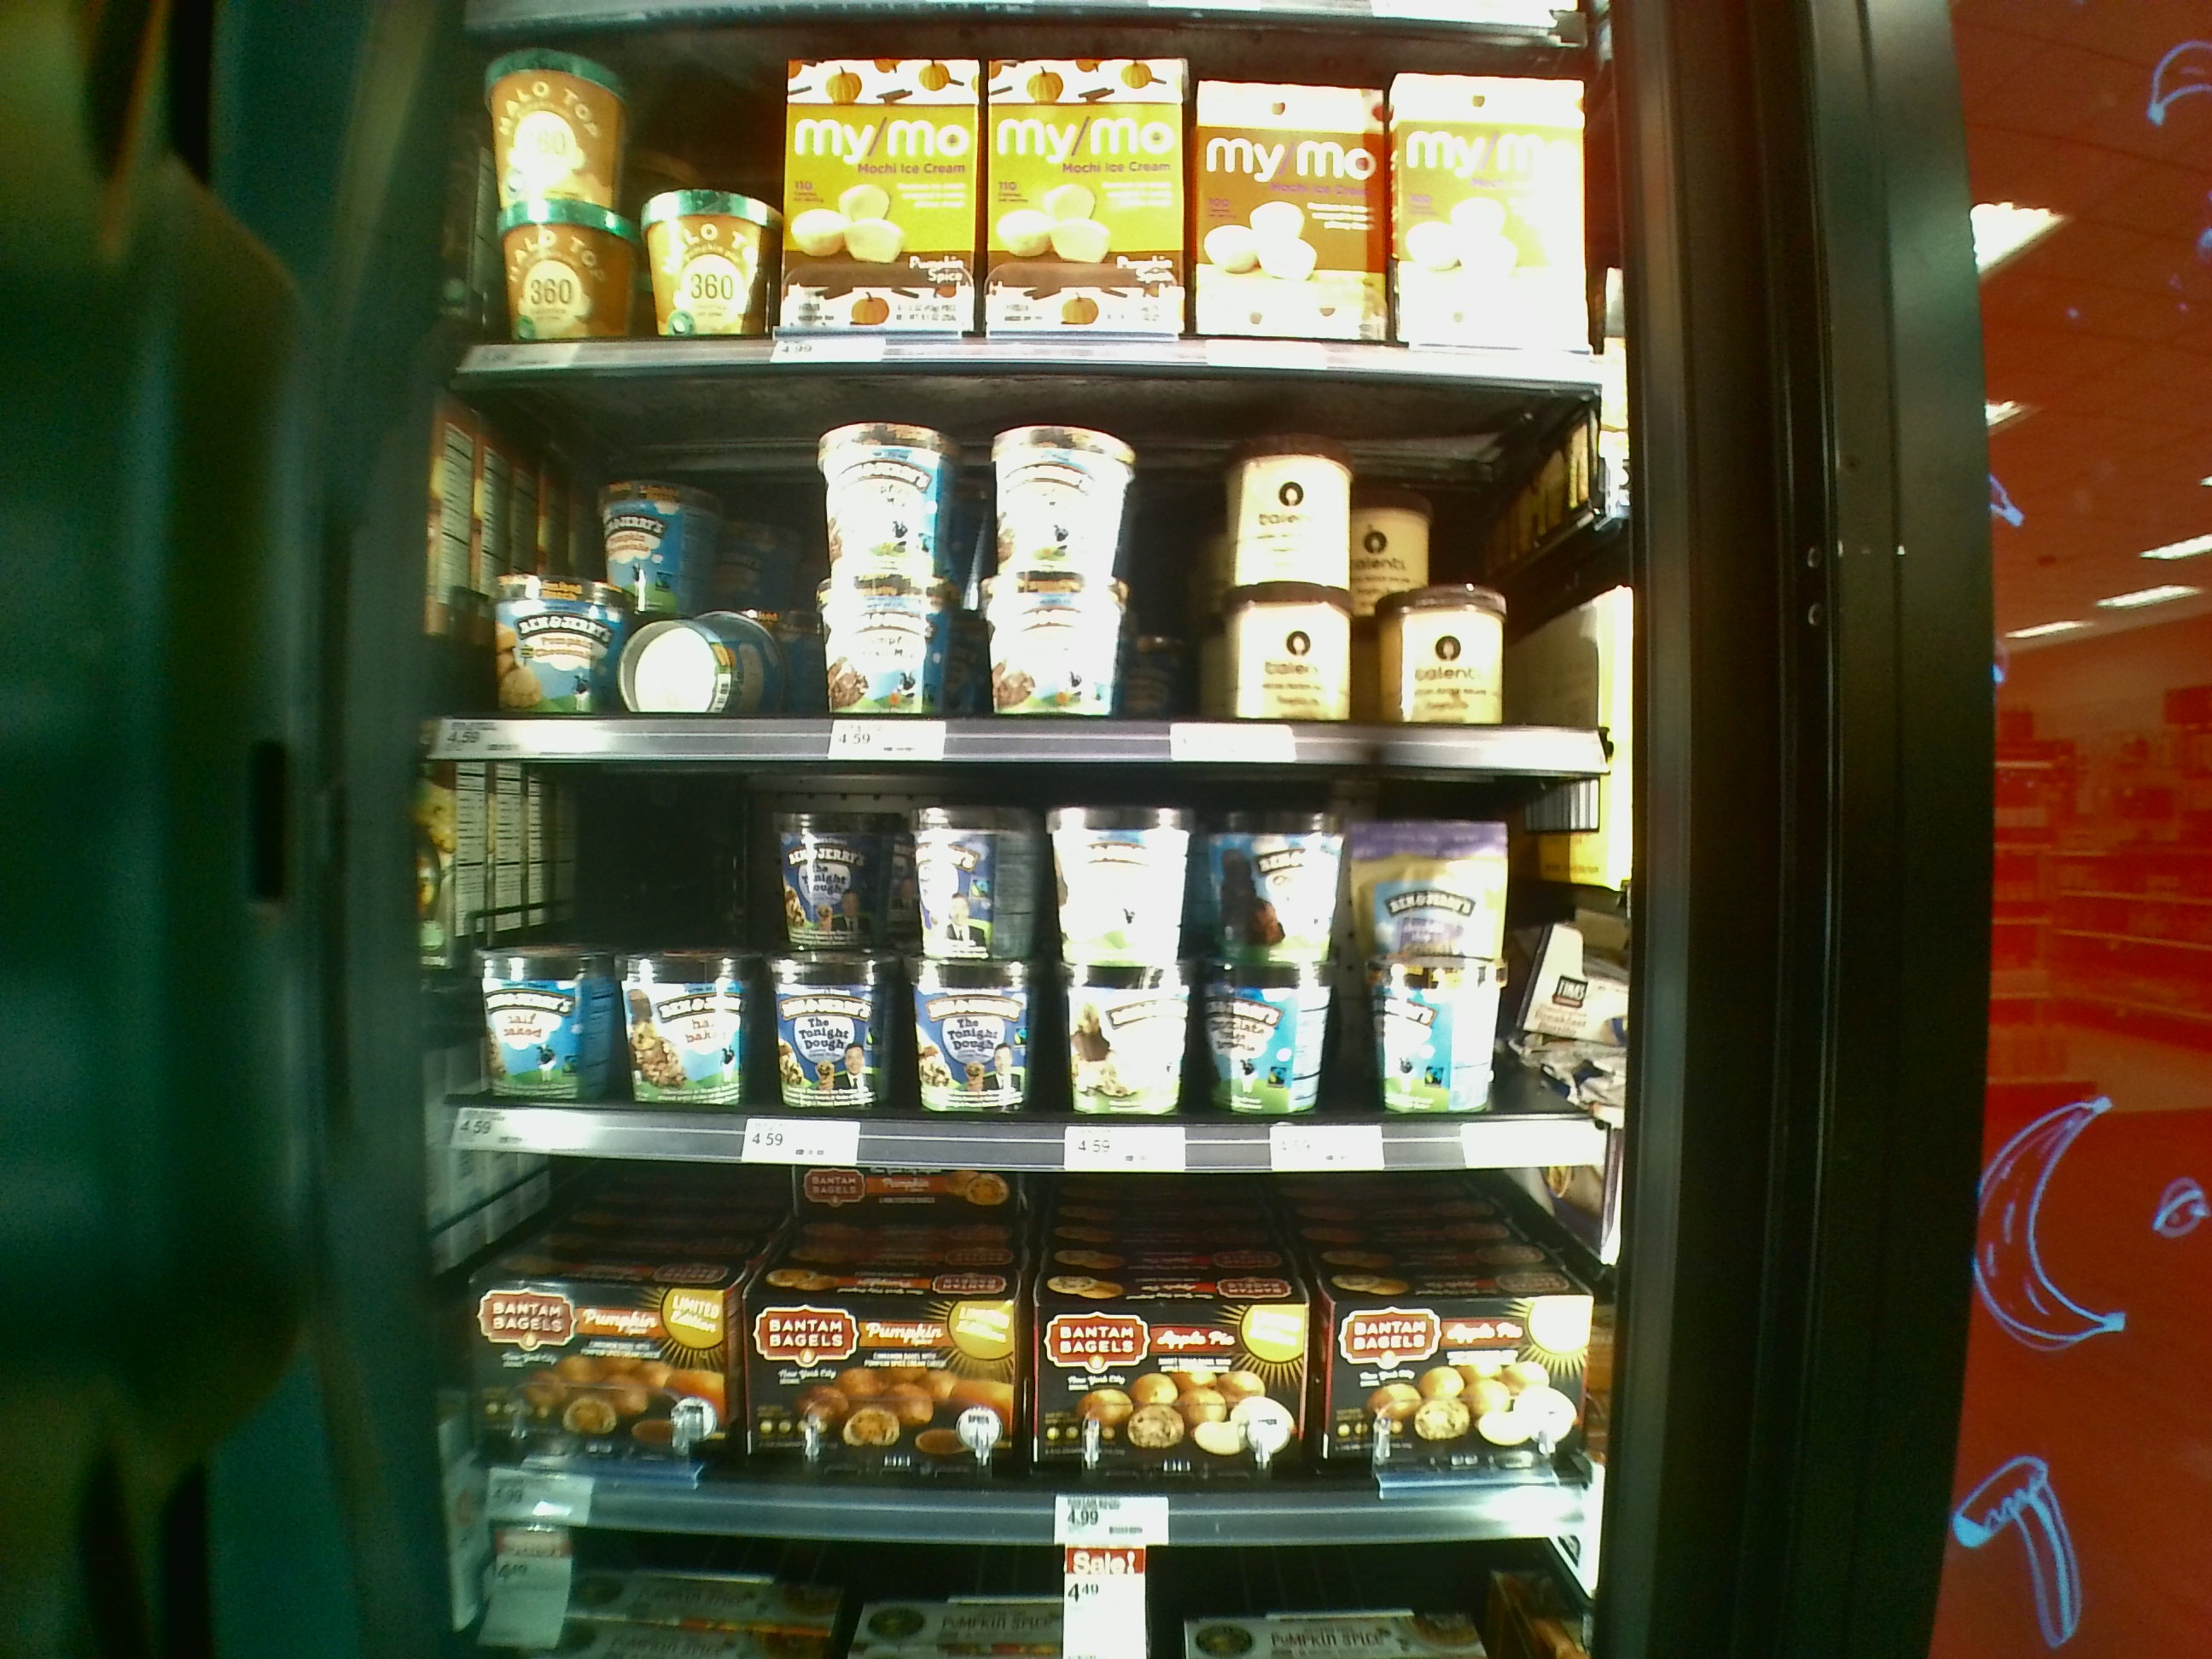shelf: (415, 742, 1609, 1175), (409, 1140, 1602, 1556), (427, 369, 1608, 784)
